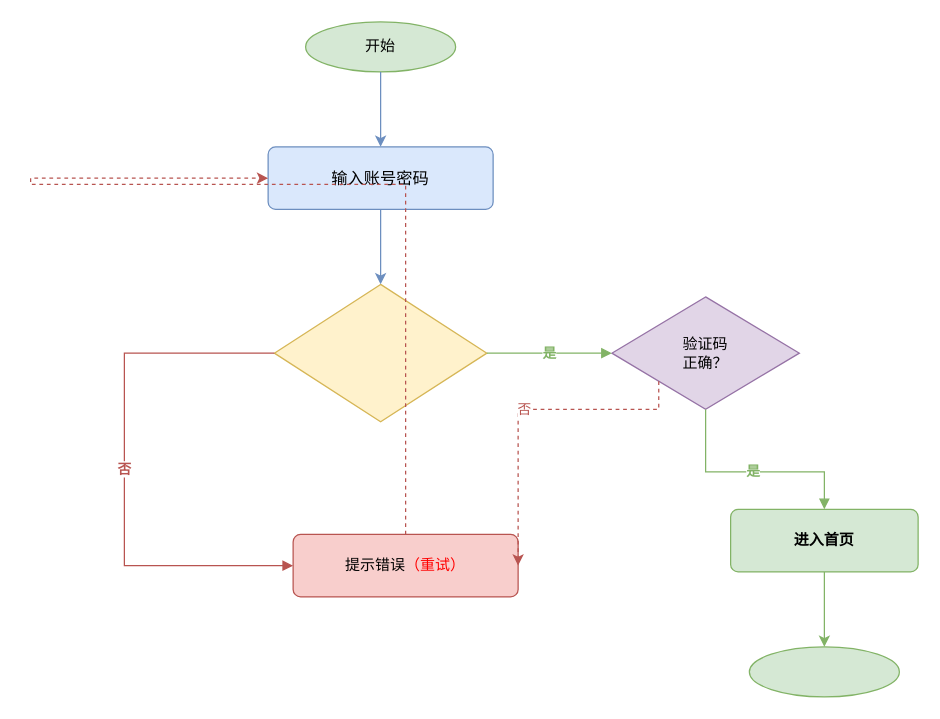
This 940x719 diagram has some shape labels left out. Here are the shapes that lost their labels. From the top down, the centre of each, then its label:
point (380, 352): 账号校验 通过？
point (823, 671): 结束
